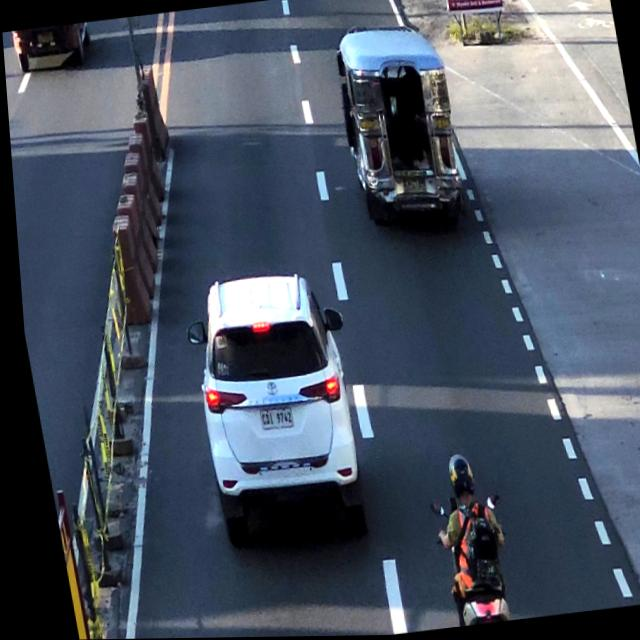Car: (175, 270, 369, 549)
Jeep: (325, 12, 461, 224)
License-Plate: (249, 405, 289, 433), (396, 170, 425, 197)
Motorcycle: (421, 456, 509, 628)
